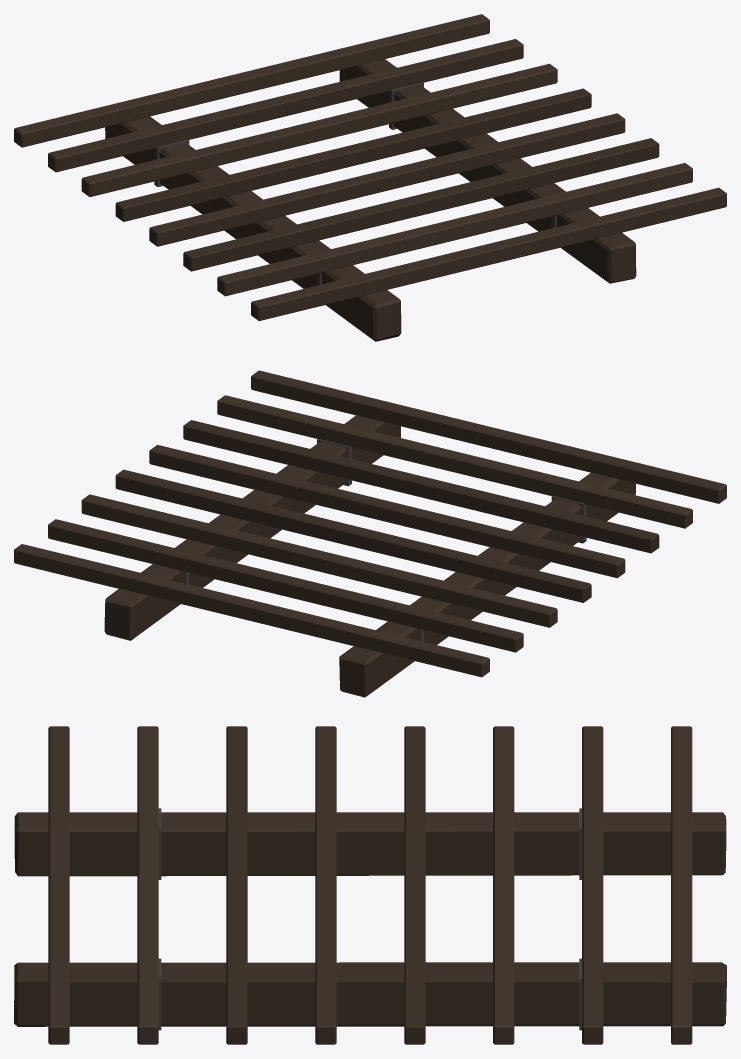
The model's file is int_ceiling_beams.glb.
The picture shows the model from 3 angles, top to bottom: view 1: azimuth 30°, elevation 25°; view 2: azimuth 150°, elevation 25°; view 3: azimuth 270°, elevation 25°; orthographic projection. The views are drawn at different scales.
Parts seen in each view (by area): view 1: int_ceiling_beams; view 2: int_ceiling_beams; view 3: int_ceiling_beams.
Boxes of the visible parts, <box> form: int_ceiling_beams: <box>14,14,726,341</box>; int_ceiling_beams: <box>14,370,726,697</box>; int_ceiling_beams: <box>14,726,726,1044</box>.
Size of the model in its own units: 4 by 0.43 by 4.01.
